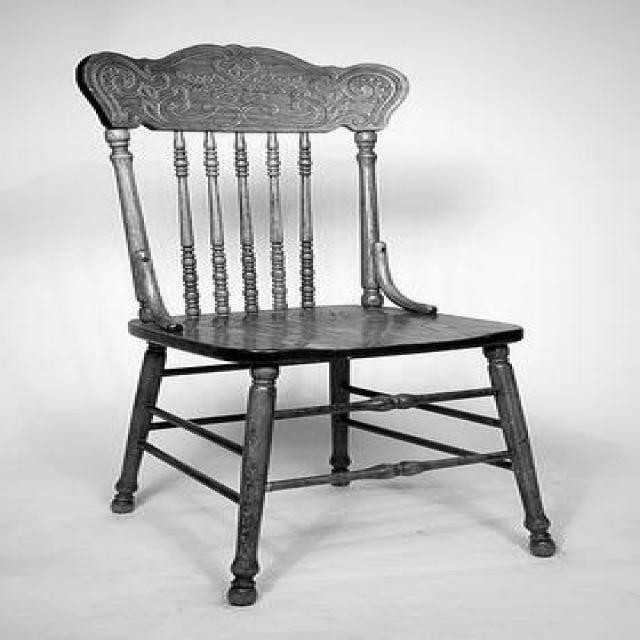chair: (64, 39, 563, 608)
